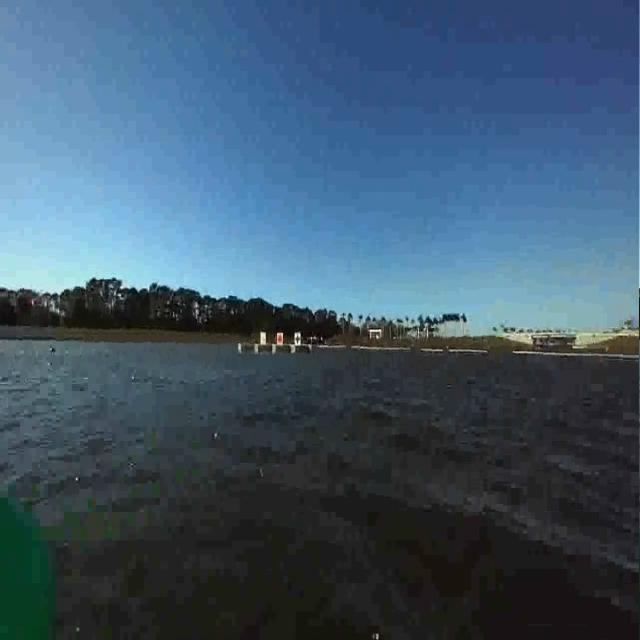green-buoy: (0, 478, 61, 640)
